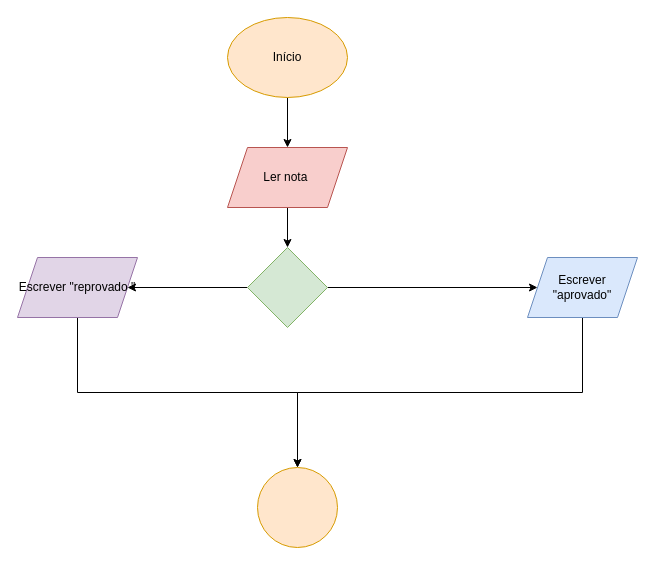
Some shapes in this 655 by 565 pixel diagram are drawn without their labels. The centre of each missing label's shape, as x and y in pixels:
Fim: the point at 297,507
nota>9.5: the point at 287,287
